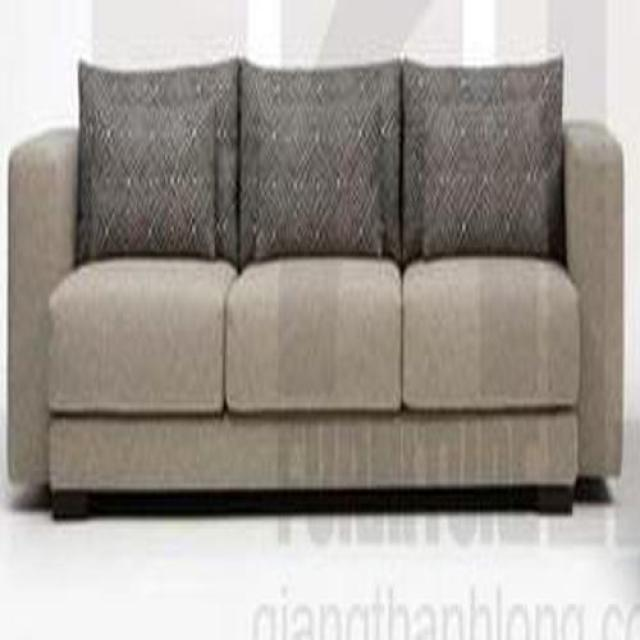sofa: (1, 56, 627, 517)
